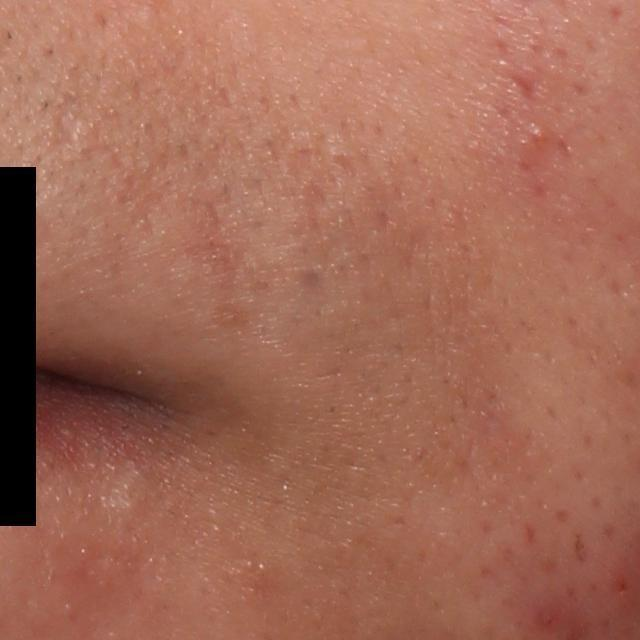atrophic_scar: (47, 87, 83, 158), (506, 72, 544, 106)
comedo: (526, 122, 544, 141)
hypertrophic_scar: (109, 465, 154, 525)
